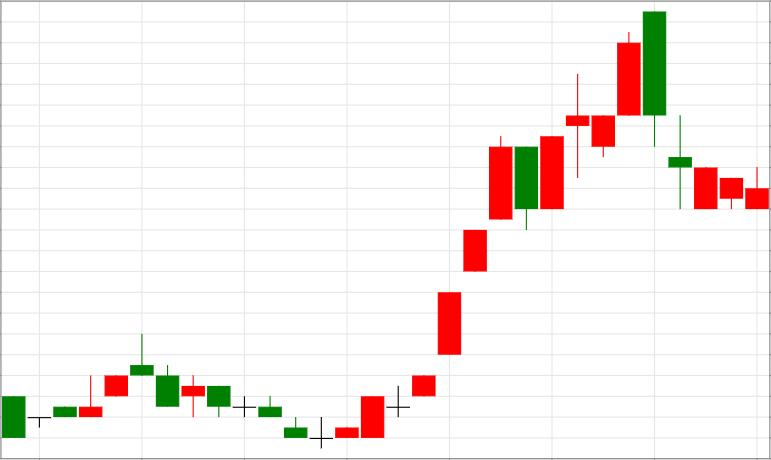bearish_engulfing_fall: (335, 11, 666, 438)
